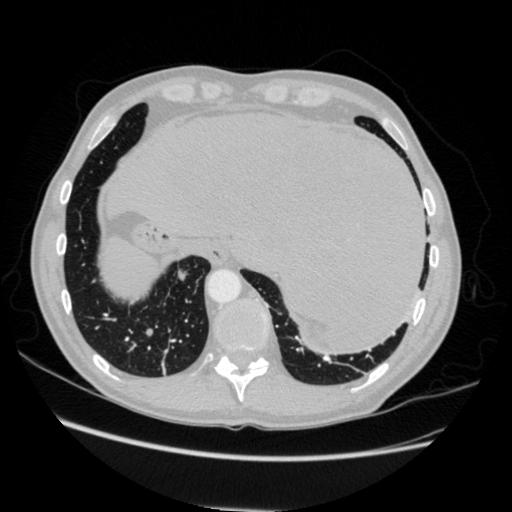nodule: (145, 325, 159, 339)
